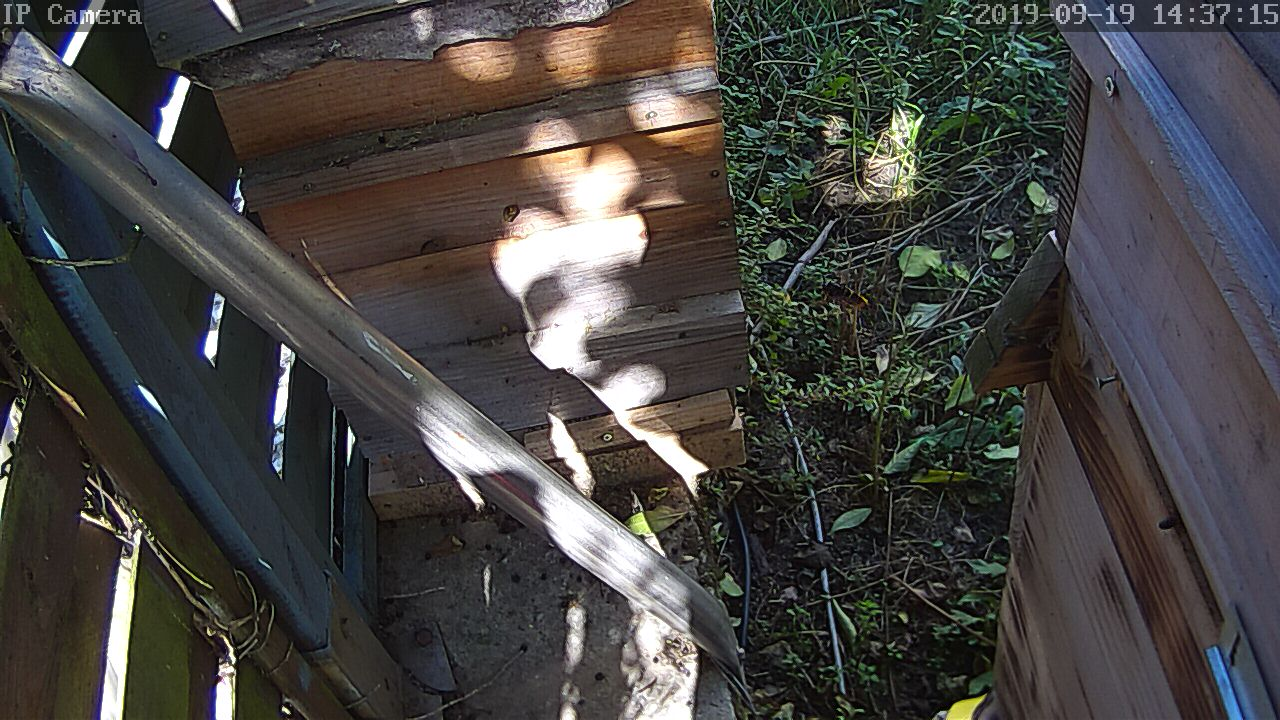bee: (1151, 511, 1187, 535)
hornet: (815, 268, 874, 316)
